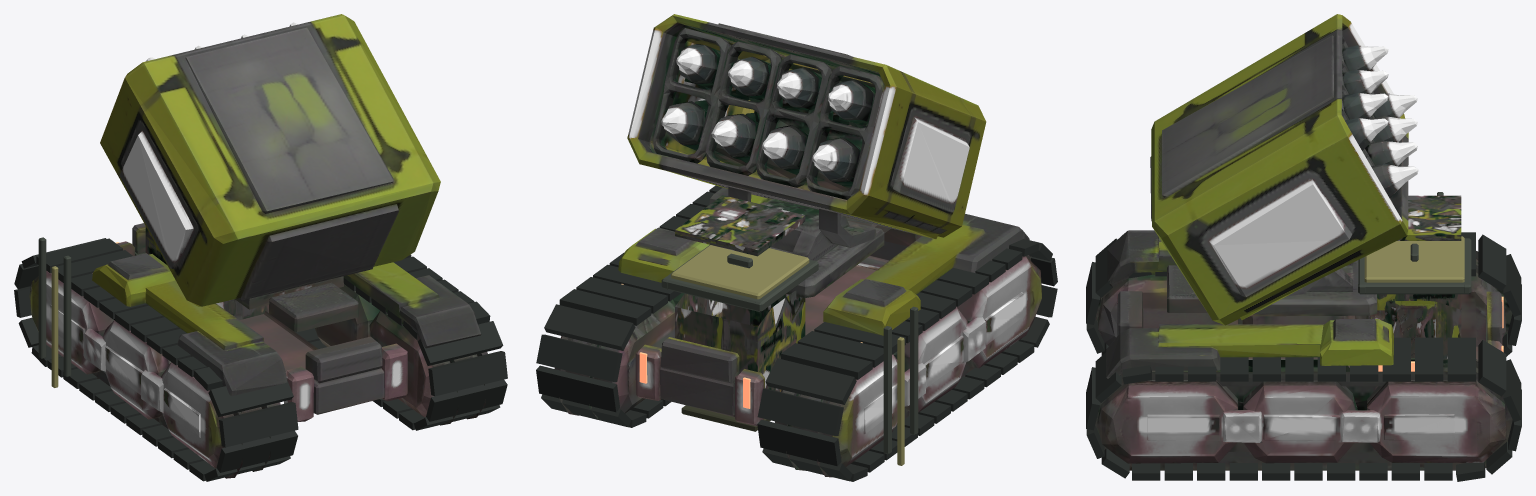
File: mlrs.glb
3 views of the same model, side by side, from view 1: azimuth 30°, elevation 25°; view 2: azimuth 150°, elevation 25°; view 3: azimuth 270°, elevation 25° (orthographic). The views are drawn at different scales.
Visible parts, largest first — view 1: MLRS_rack, MLRS_hull, MLRS_RegularTread_L, MLRS_RegularTread_R, mlrs_EntryRail, mlrs_EntryRail.001, MLRS_pedestal; view 2: MLRS_hull, MLRS_rack, MLRS_RegularTread_L, MLRS_RegularTread_R, MLRS_pedestal, mlrs_HatchLid, MLRS_rocket_04, MLRS_rocket_03, MLRS_rocket_02, MLRS_rocket_01, MLRS_rocket_05, MLRS_rocket_06 (+7 smaller); view 3: MLRS_hull, MLRS_rack, MLRS_RegularTread_R, MLRS_RegularTread_L, mlrs_HatchLid, MLRS_pedestal, mlrs_HatchRim.001, MLRS_rocket_03, MLRS_rocket_07, MLRS_rocket_05, MLRS_rocket_04, MLRS_rocket_06 (+3 smaller).
Boxes of the visible parts, left/top/right/bottom form: MLRS_rack: left=100, top=14, right=440, bottom=306; MLRS_hull: left=29, top=223, right=487, bottom=478; MLRS_RegularTread_L: left=14, top=238, right=298, bottom=481; MLRS_RegularTread_R: left=295, top=254, right=507, bottom=430; mlrs_EntryRail: left=63, top=255, right=71, bottom=376; mlrs_EntryRail.001: left=38, top=237, right=46, bottom=358; MLRS_pedestal: left=235, top=276, right=343, bottom=309; MLRS_hull: left=554, top=187, right=1041, bottom=477; MLRS_rack: left=627, top=14, right=986, bottom=239; MLRS_RegularTread_L: left=757, top=239, right=1057, bottom=481; MLRS_RegularTread_R: left=536, top=185, right=722, bottom=427; MLRS_pedestal: left=728, top=187, right=884, bottom=298; mlrs_HatchLid: left=671, top=245, right=809, bottom=299; MLRS_rocket_04: left=661, top=101, right=746, bottom=166; MLRS_rocket_03: left=711, top=113, right=806, bottom=182; MLRS_rocket_02: left=762, top=125, right=849, bottom=191; MLRS_rocket_01: left=812, top=137, right=861, bottom=188; MLRS_rocket_05: left=828, top=79, right=875, bottom=126; MLRS_rocket_06: left=777, top=67, right=849, bottom=124; MLRS_hull: left=1095, top=195, right=1512, bottom=470; MLRS_rack: left=1150, top=14, right=1408, bottom=325; MLRS_RegularTread_R: left=1086, top=337, right=1521, bottom=481; MLRS_RegularTread_L: left=1086, top=232, right=1521, bottom=356; mlrs_HatchLid: left=1364, top=236, right=1464, bottom=282; MLRS_pedestal: left=1250, top=260, right=1377, bottom=316; mlrs_HatchRim.001: left=1358, top=282, right=1471, bottom=294; MLRS_rocket_03: left=1365, top=140, right=1417, bottom=166; MLRS_rocket_07: left=1342, top=92, right=1388, bottom=119; MLRS_rocket_05: left=1342, top=45, right=1388, bottom=71; MLRS_rocket_04: left=1371, top=163, right=1418, bottom=198; MLRS_rocket_06: left=1342, top=70, right=1388, bottom=94.
Size of the model in its own units: 3.98 by 4.34 by 4.92.
Materials: 6 (1 with a texture image).
